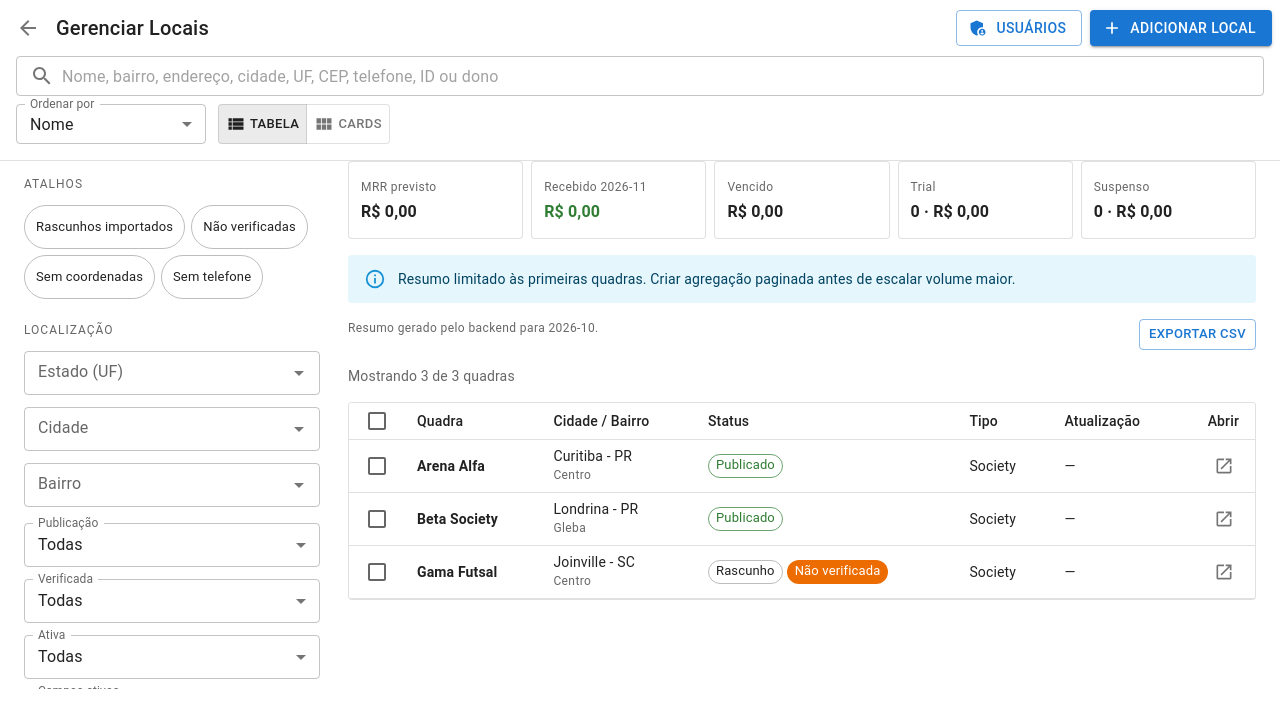
Test: ManageLocationsScreen (admin) — filtros, busca e vistas › busca inteligente (abreviação + typo) com debounce
Type "soc londrna" into the field named "buscar" at (663, 76), box [62, 56, 1264, 96]
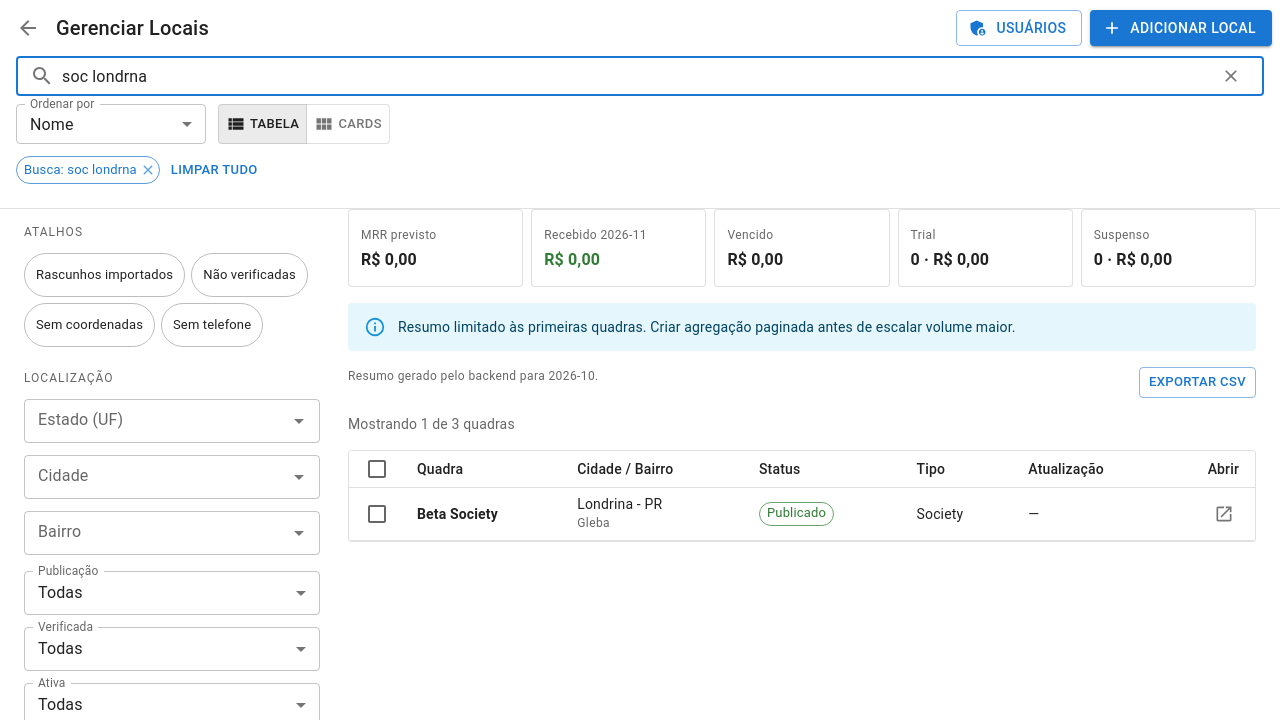
Expected: the text "Beta Society" is shown, [417, 506, 498, 522]
Expected: the text "Mostrando 1 de 3 quadras" is shown, [348, 416, 515, 432]
